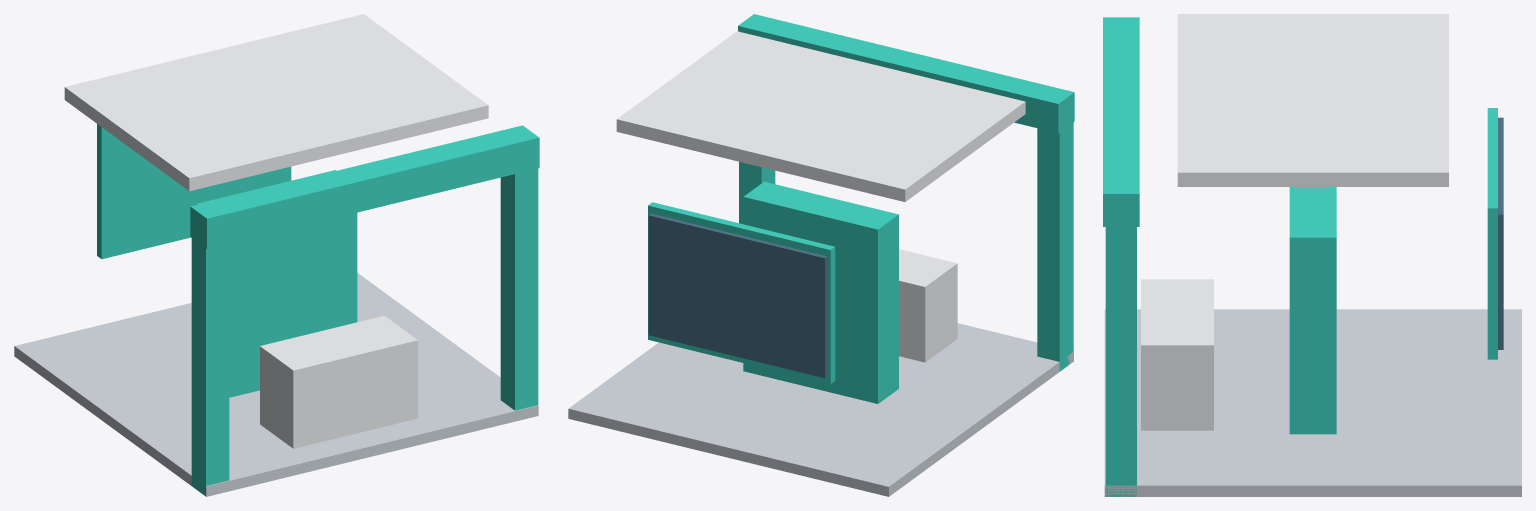
The picture shows the model from 3 angles, left to right: view 1: azimuth 30°, elevation 25°; view 2: azimuth 150°, elevation 25°; view 3: azimuth 270°, elevation 25°; orthographic projection. The views are drawn at different scales.
Visible parts, largest first — view 1: Exhibition Booth Concept; view 2: Exhibition Booth Concept; view 3: Exhibition Booth Concept.
Part boxes in pixels (x1,y1,x2,y2): Exhibition Booth Concept: (14, 14, 539, 496); Exhibition Booth Concept: (568, 14, 1074, 496); Exhibition Booth Concept: (1103, 14, 1521, 496).
Bounding box in the file's own units: 4 × 3.34 × 4.02.
